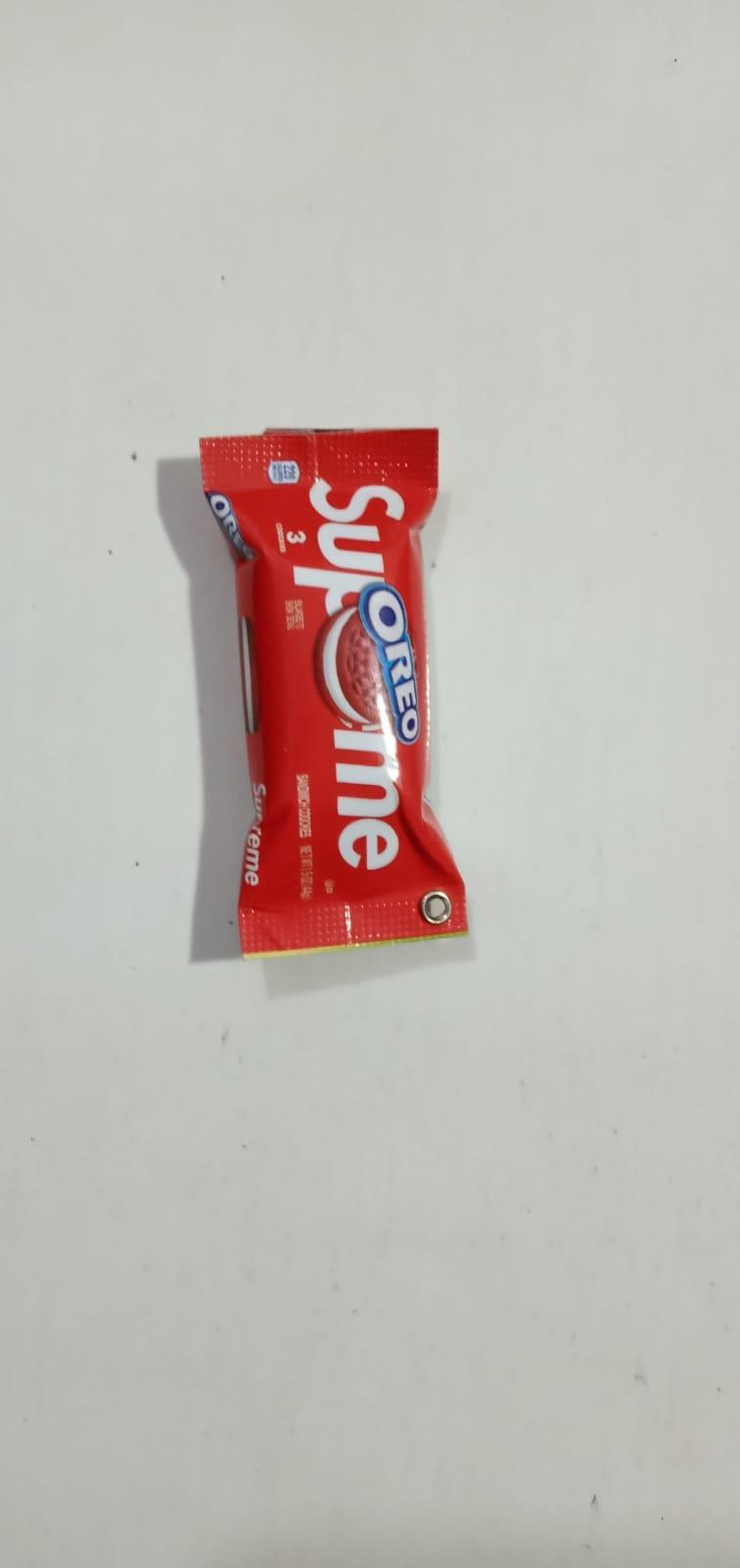Plastik: (197, 422, 471, 960)
